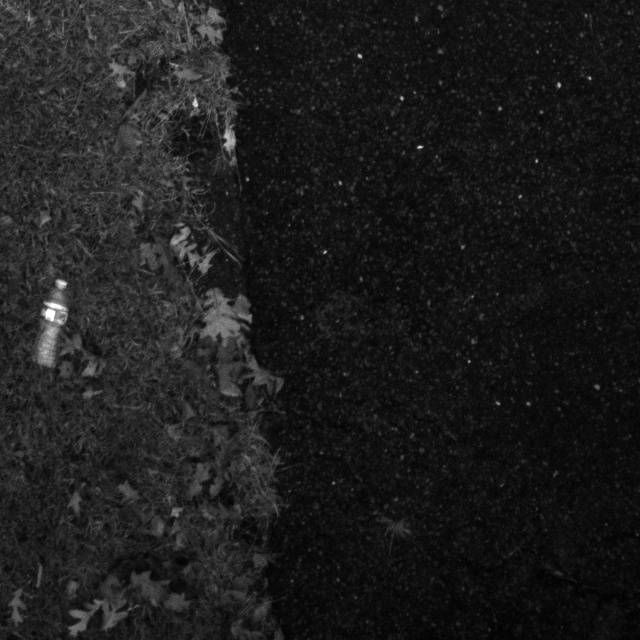bottle: (26, 271, 88, 376)
